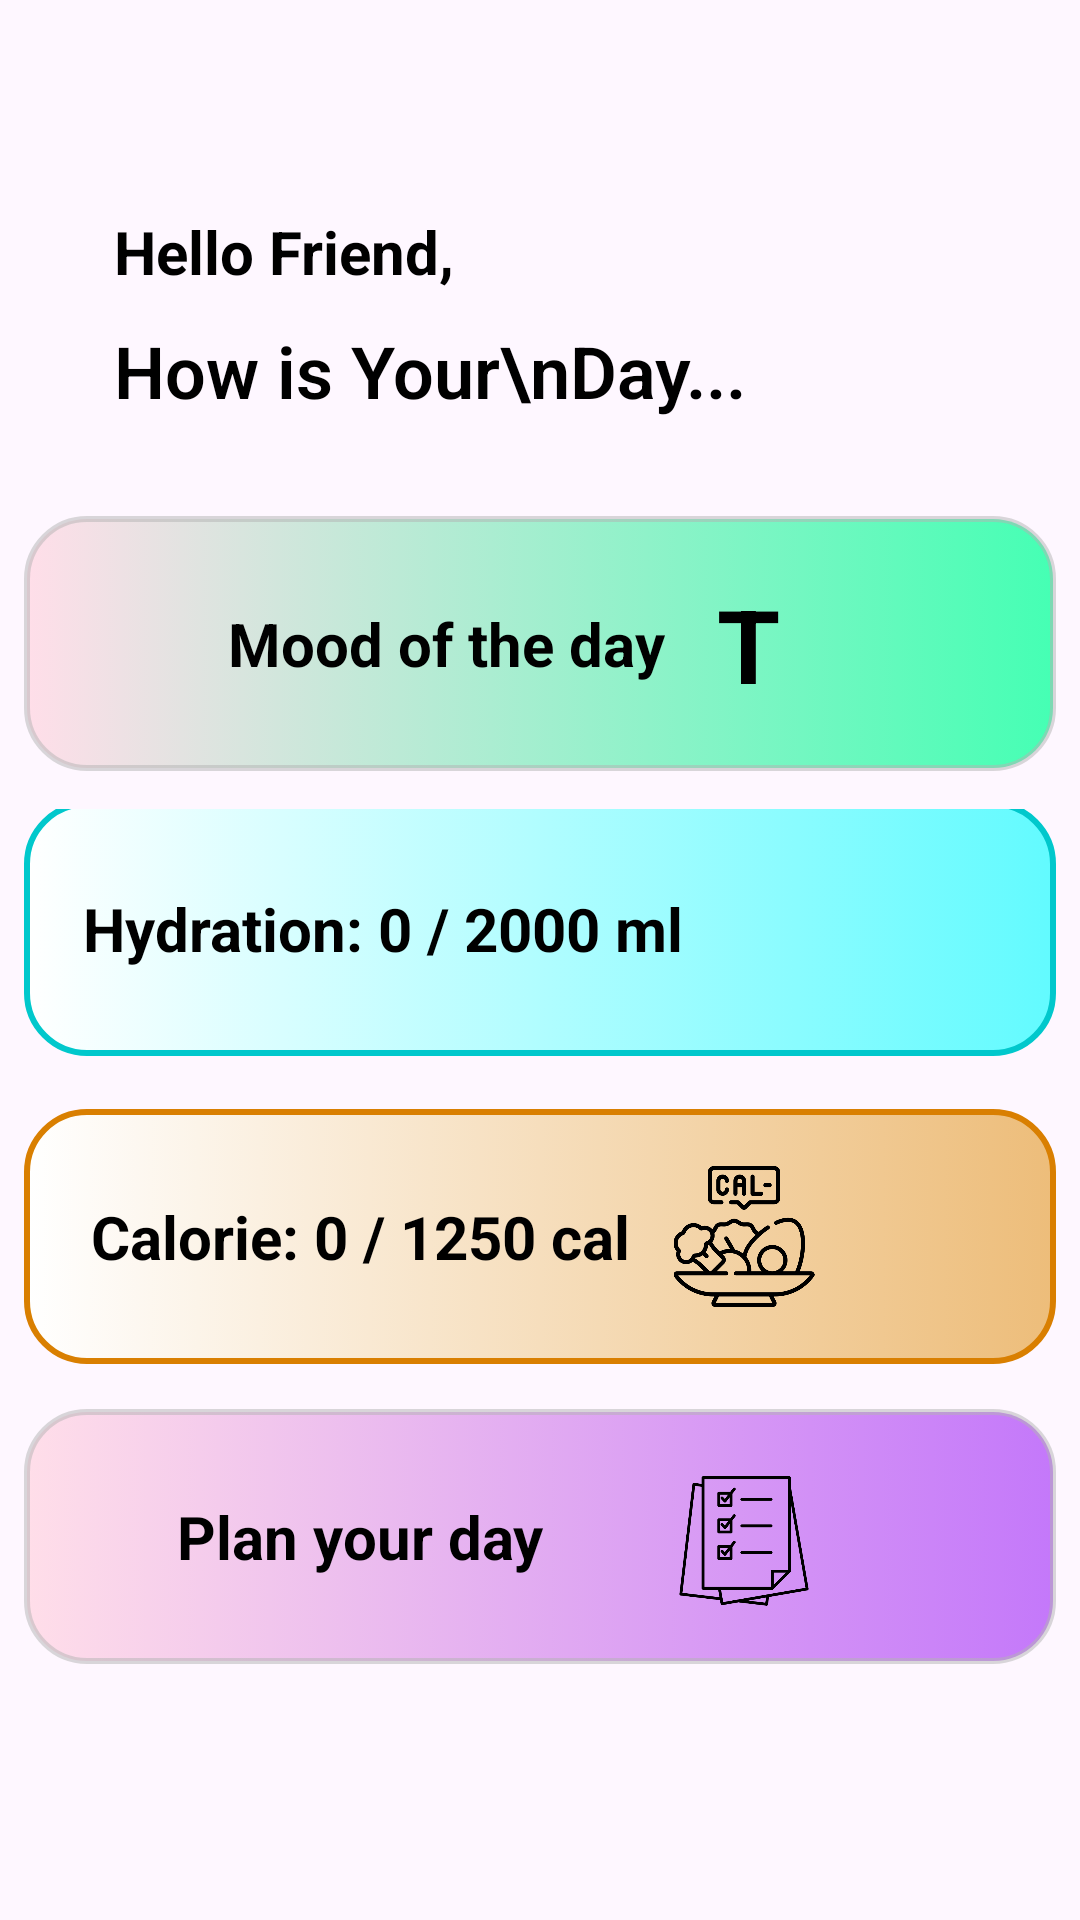

Where icons sit on this 1080 × 1920 app screen, as (x1, y1, x2, y2):
todo: (679, 1476, 809, 1606)
